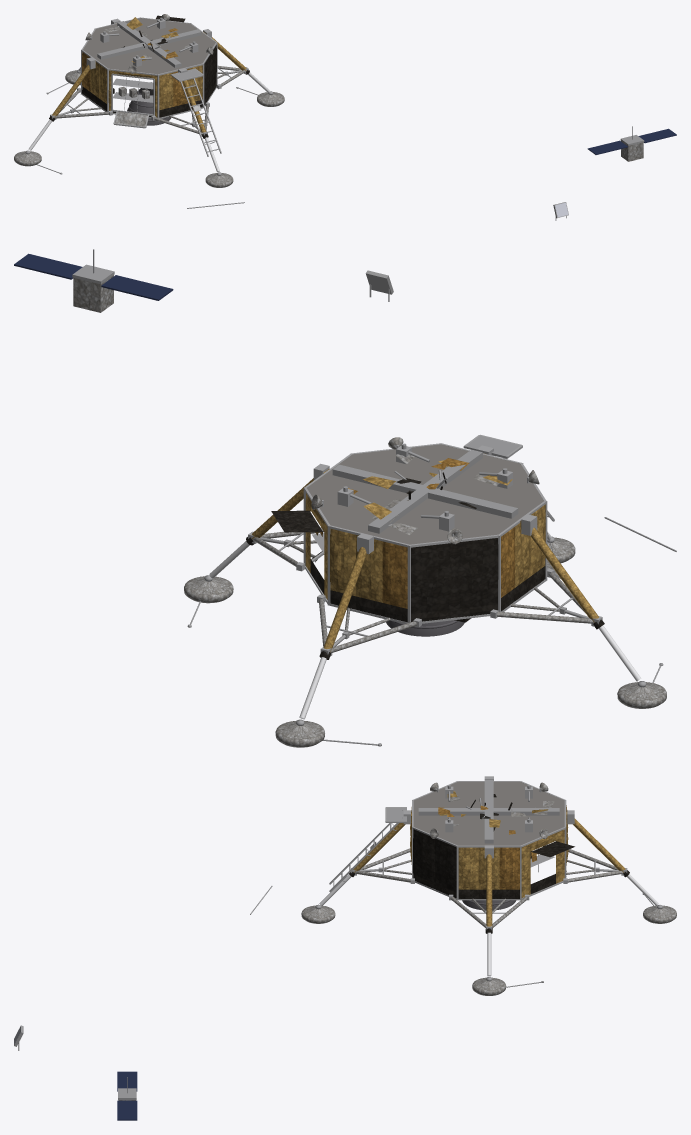
File: apollo_lm_descent.glb
The picture shows the model from 3 angles, top to bottom: view 1: azimuth 30°, elevation 25°; view 2: azimuth 150°, elevation 25°; view 3: azimuth 270°, elevation 25°; orthographic projection. The views are drawn at different scales.
Visible parts, largest first — view 1: LM_Descent, Experiments; view 2: LM_Descent, Experiments; view 3: LM_Descent, Experiments.
Boxes of the visible parts, box(x1,y1,x2,y2) form: LM_Descent: box(14, 14, 284, 187); Experiments: box(187, 126, 676, 220); LM_Descent: box(184, 434, 666, 747); Experiments: box(14, 249, 676, 551); LM_Descent: box(301, 776, 676, 995); Experiments: box(14, 886, 272, 1120).
Size of the model in its own units: 19.76 by 3.54 by 18.32.
Materials: 14 (5 with a texture image).
